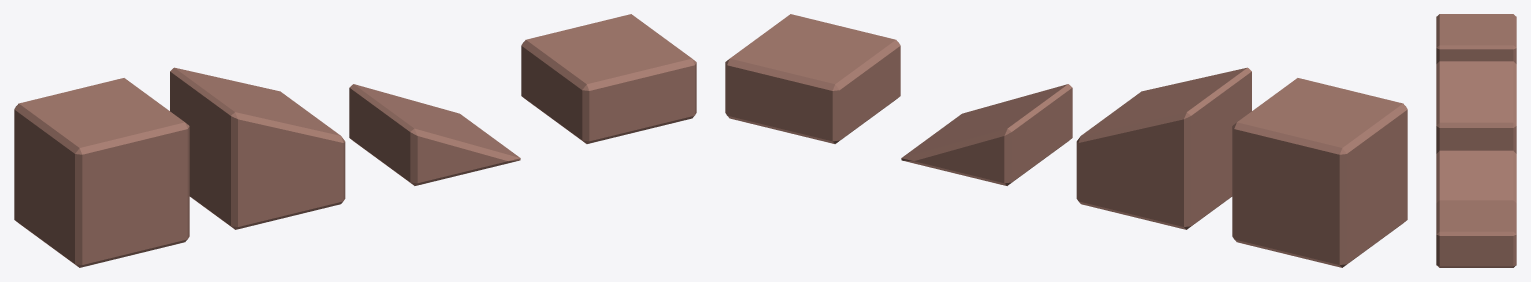
File: world-blocks-v1.glb
The picture shows the model from 3 angles, left to right: view 1: azimuth 30°, elevation 25°; view 2: azimuth 150°, elevation 25°; view 3: azimuth 270°, elevation 25°; orthographic projection. The views are drawn at different scales.
Visible parts, largest first — view 1: Block, RampTop, BlockShort, RampBottom; view 2: Block, RampTop, BlockShort, RampBottom; view 3: RampTop, BlockShort, RampBottom, Block.
Part boxes in pixels (<box>): Block: <box>14,78,189,267</box>; RampTop: <box>170,67,345,229</box>; BlockShort: <box>521,14,696,143</box>; RampBottom: <box>349,84,520,185</box>; Block: <box>1232,78,1407,267</box>; RampTop: <box>1076,67,1251,229</box>; BlockShort: <box>725,14,900,143</box>; RampBottom: <box>901,84,1072,185</box>; RampTop: <box>1436,61,1516,153</box>; BlockShort: <box>1436,200,1516,267</box>; RampBottom: <box>1436,150,1516,202</box>; Block: <box>1436,14,1516,63</box>.
Size of what is drawn, in the model's own units: 10.85 by 2 by 2.
